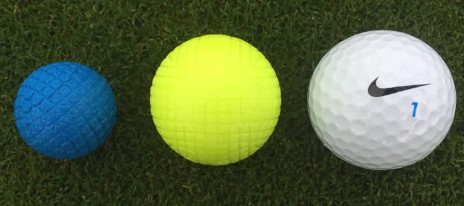blue ball: (12, 61, 120, 161)
